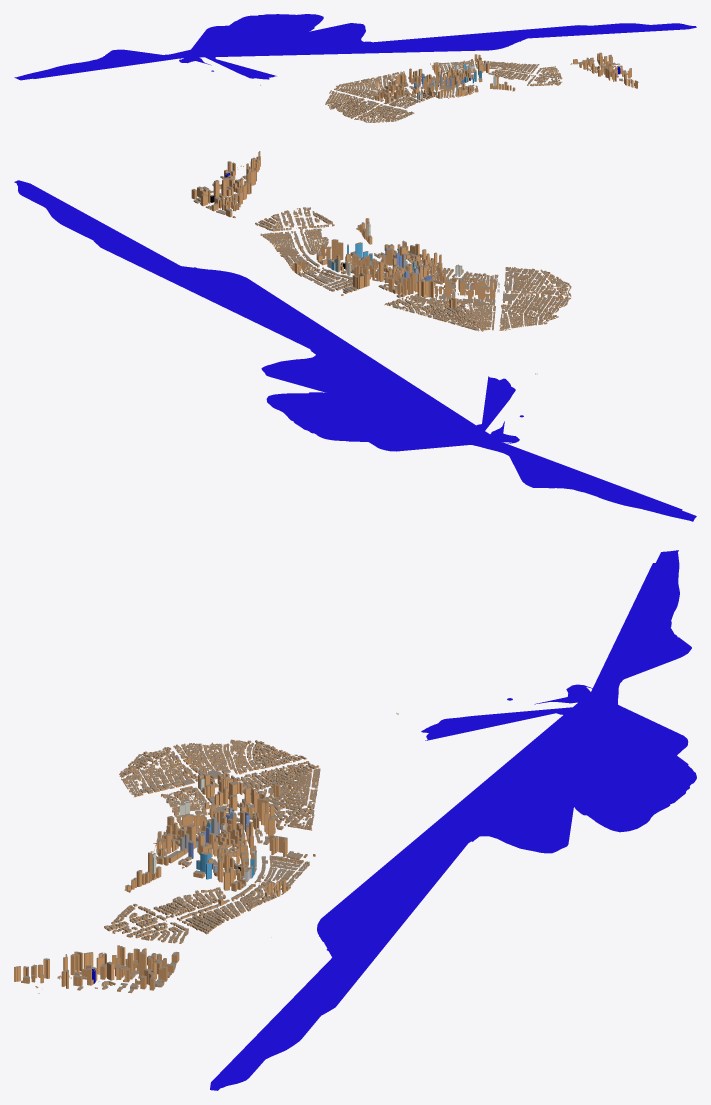
Rendered from jeeprouteEdit_1v3.fbx.
3 renders of one model, top to bottom at view 1: azimuth 30°, elevation 25°; view 2: azimuth 150°, elevation 25°; view 3: azimuth 270°, elevation 25°, orthographic. The views are drawn at different scales.
Parts seen in each view (by area): view 1: map_10.osm_water, map_10.osm_buildings.001, map_10.osm_buildings.002; view 2: map_10.osm_water, map_10.osm_buildings.002, map_10.osm_buildings.001; view 3: map_10.osm_water, map_10.osm_buildings.001, map_10.osm_buildings.002.
Boxes of the visible parts, <box> form: map_10.osm_water: <box>14,14,696,80</box>; map_10.osm_buildings.001: <box>430,52,638,98</box>; map_10.osm_buildings.002: <box>260,68,439,122</box>; map_10.osm_water: <box>14,180,696,521</box>; map_10.osm_buildings.002: <box>378,260,571,374</box>; map_10.osm_buildings.001: <box>191,151,441,295</box>; map_10.osm_water: <box>38,550,696,1090</box>; map_10.osm_buildings.001: <box>14,815,315,993</box>; map_10.osm_buildings.002: <box>119,713,398,848</box>.
Bounding box in the file's own units: 1165873 × 31446 × 622317.
